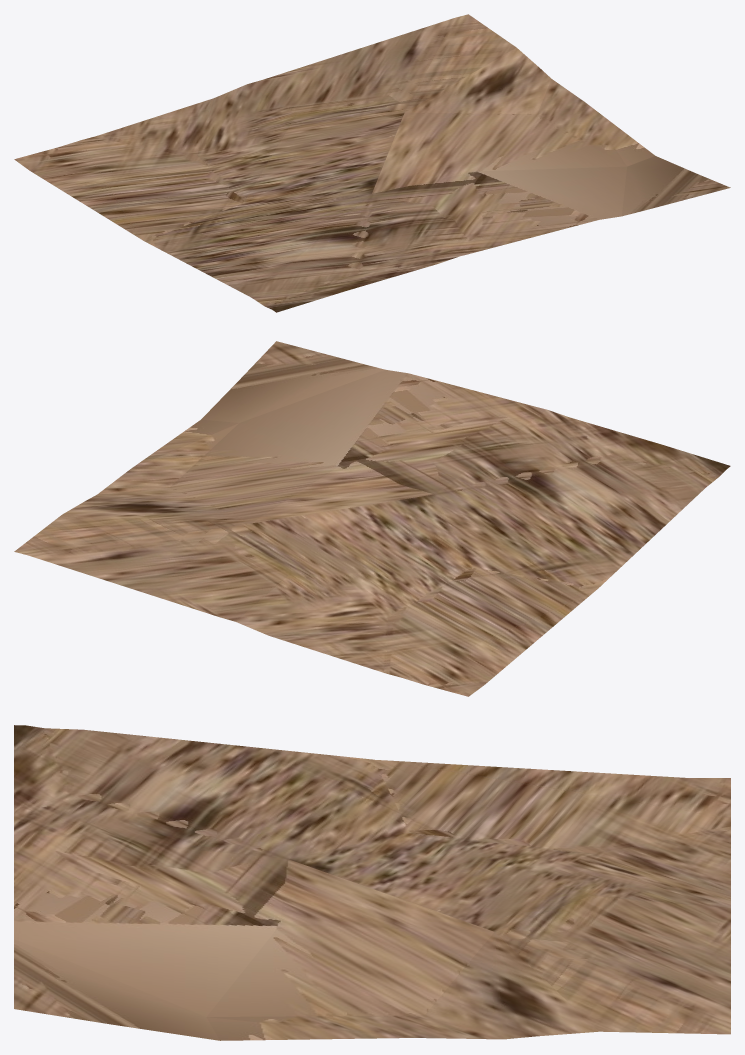
The picture shows the model from 3 angles, top to bottom: view 1: azimuth 30°, elevation 25°; view 2: azimuth 150°, elevation 25°; view 3: azimuth 270°, elevation 25°; orthographic projection. The views are drawn at different scales.
Size of the model in its own units: 2.09 by 0.2318 by 2.09.
Materials: 2 (2 with a texture image).
